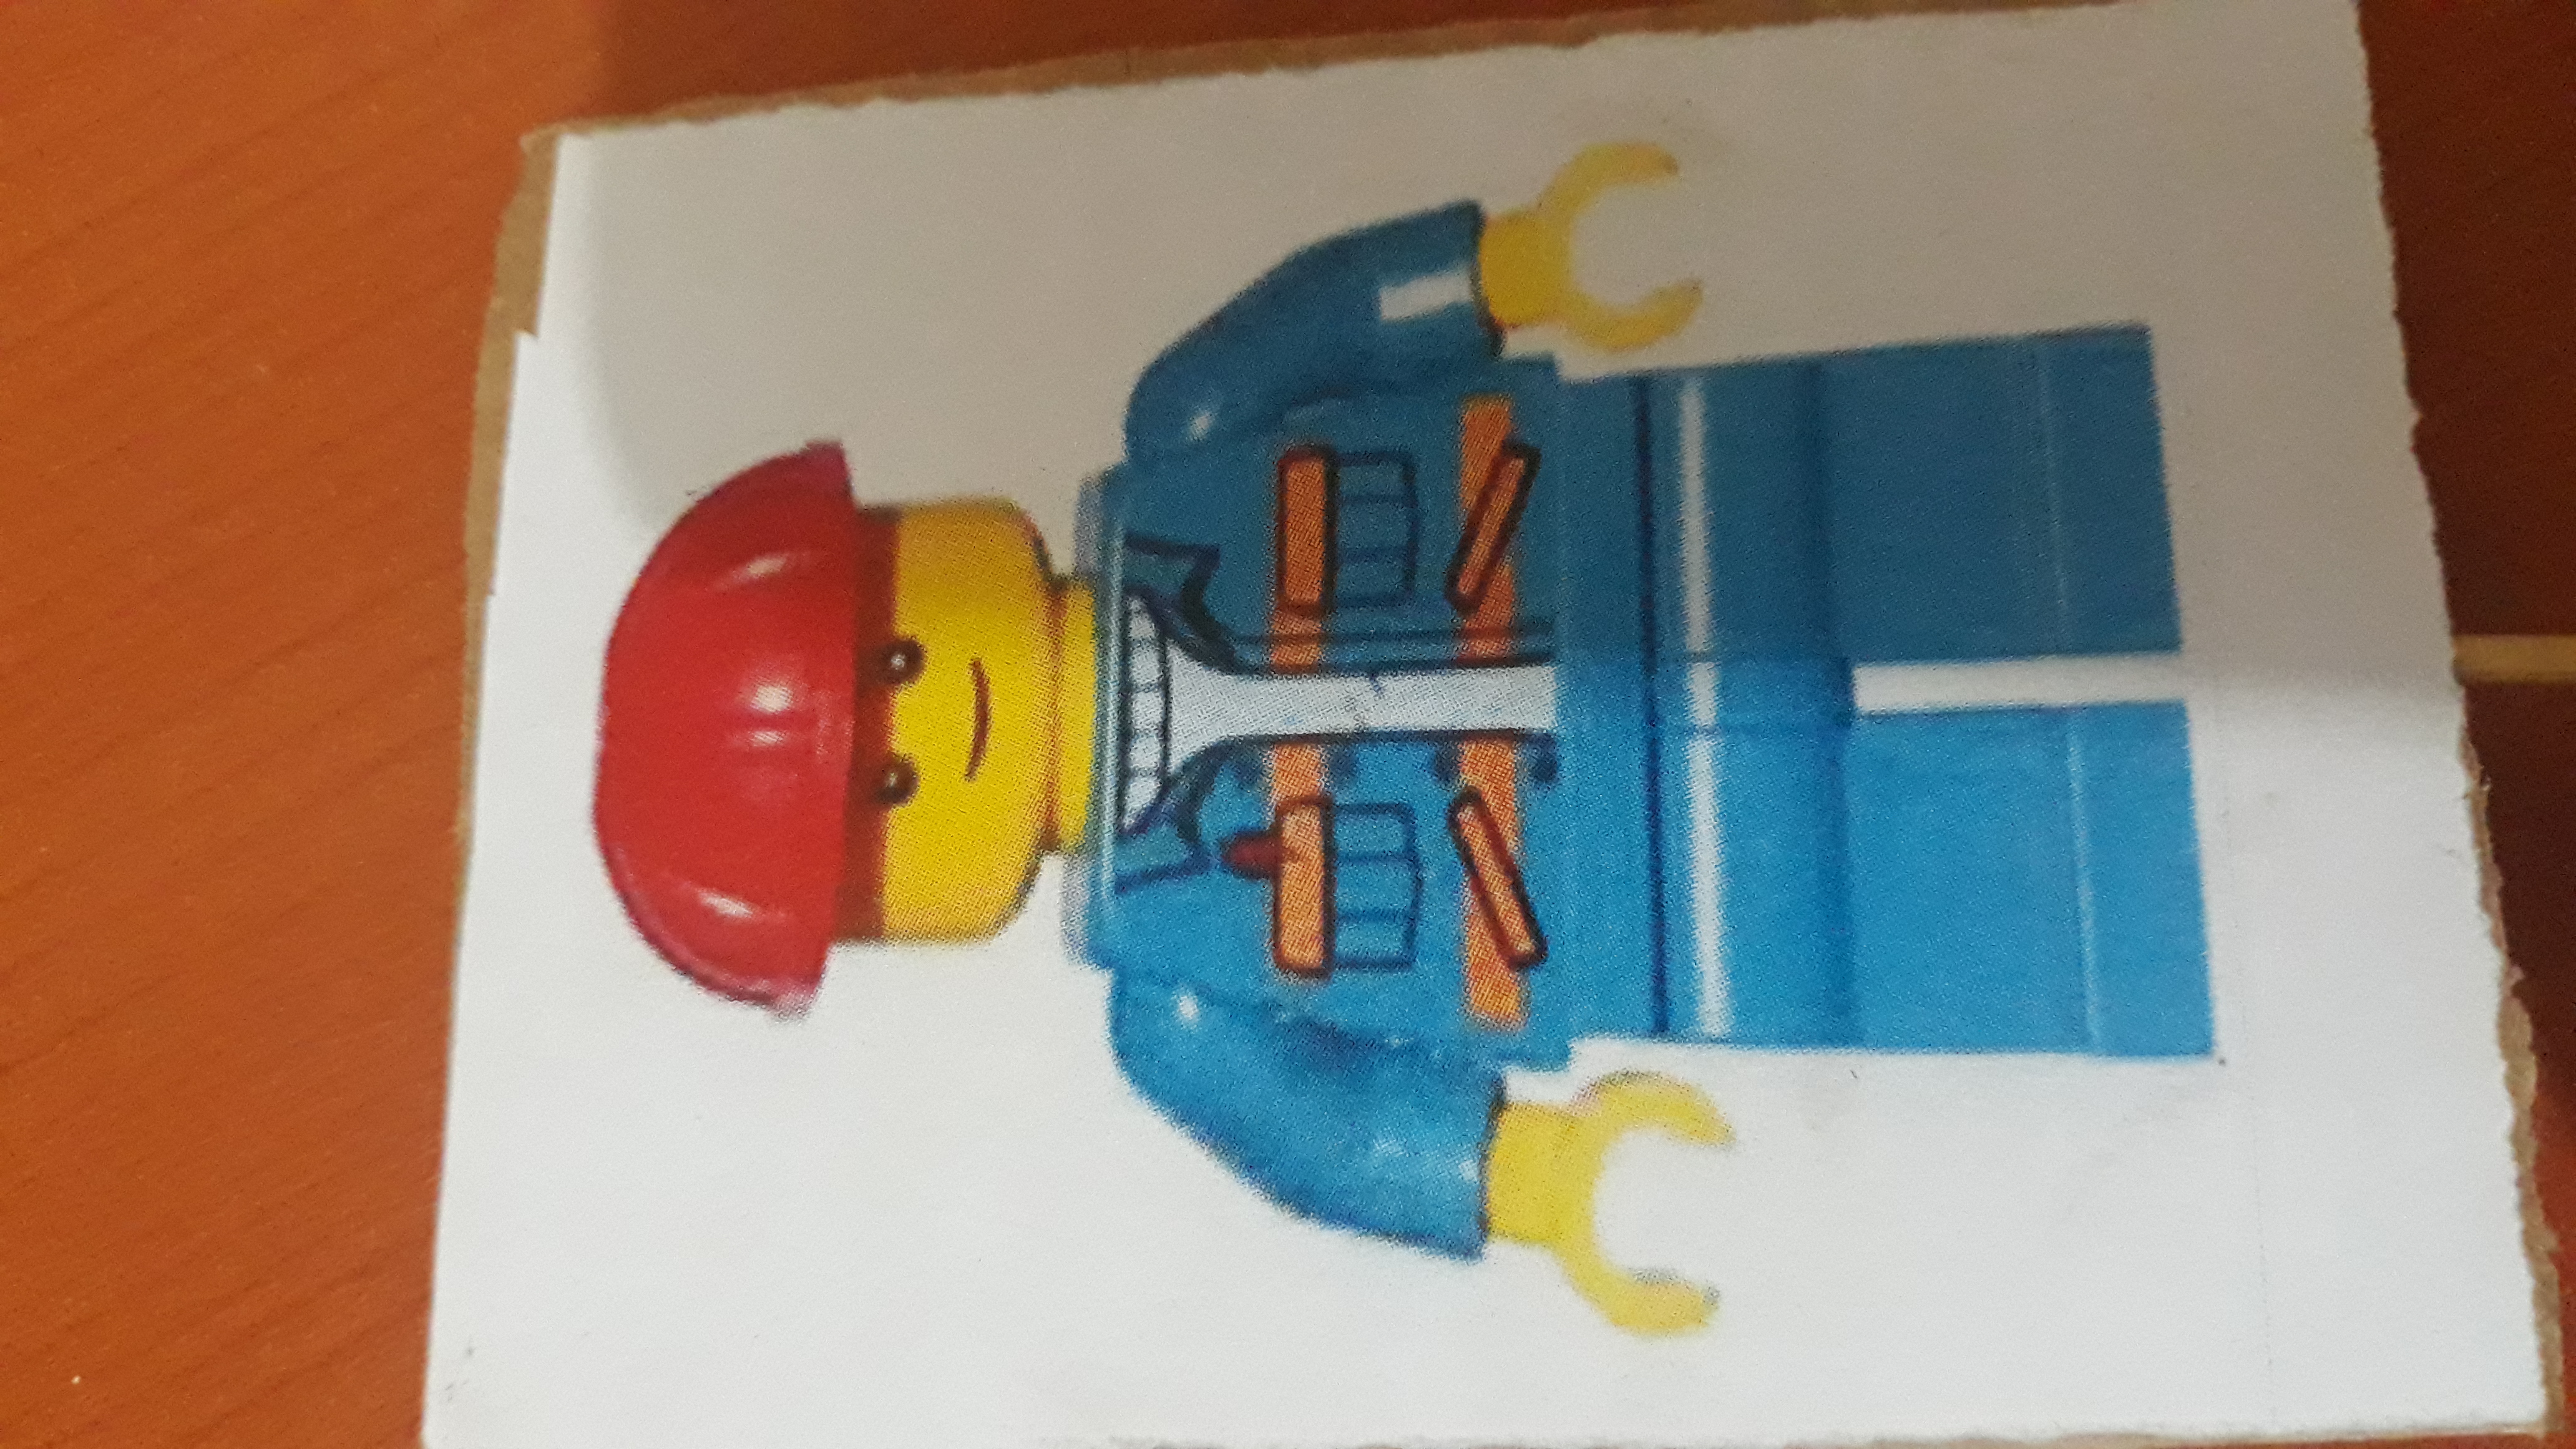pedestrian: (565, 132, 2343, 1368)
